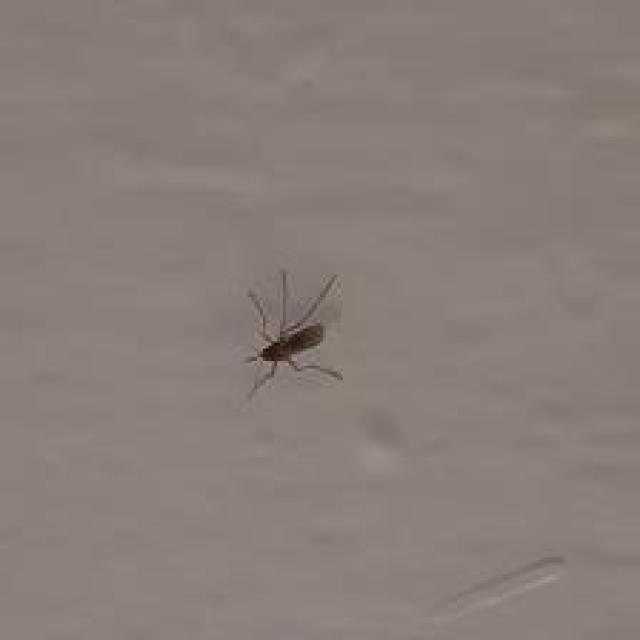Culex: (242, 269, 344, 400)
